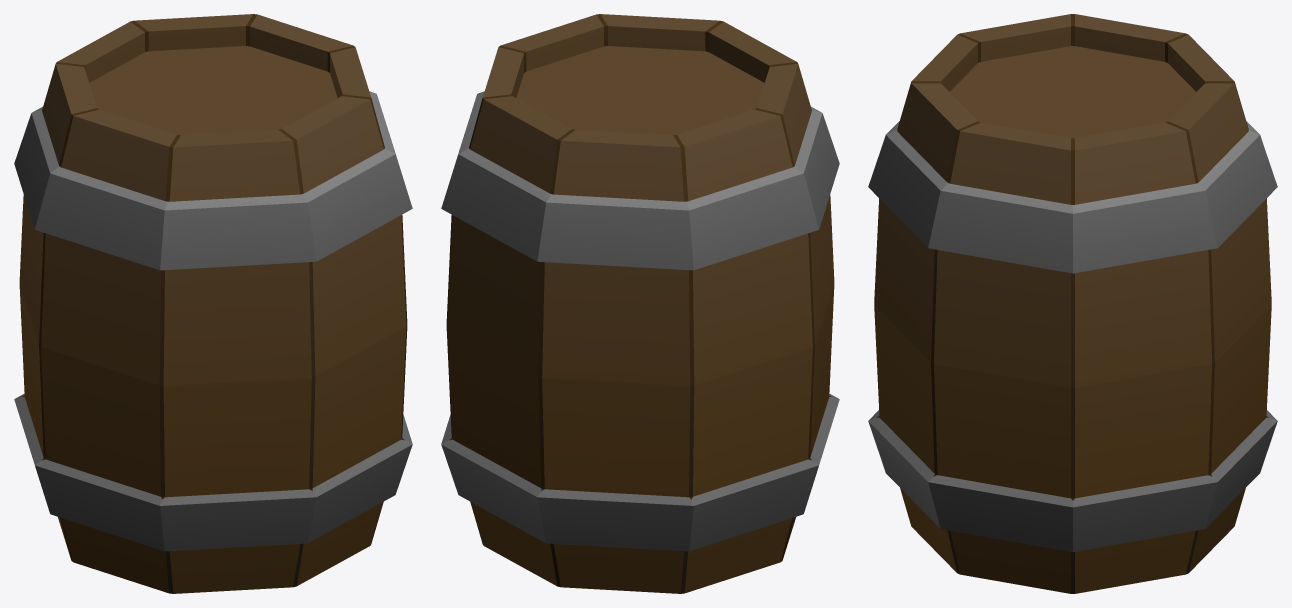
The model's file is Barrel.fbx.
3 renders of one model, left to right at view 1: azimuth 30°, elevation 25°; view 2: azimuth 150°, elevation 25°; view 3: azimuth 270°, elevation 25°, orthographic.
Visible parts, largest first — view 1: Barrel; view 2: Barrel; view 3: Barrel.
Part boxes in pixels (x1,y1,x2,y2): Barrel: (14, 14, 412, 593); Barrel: (441, 14, 839, 593); Barrel: (868, 14, 1277, 593).
Bounding box in the file's own units: 75.37 × 90 × 75.37.
